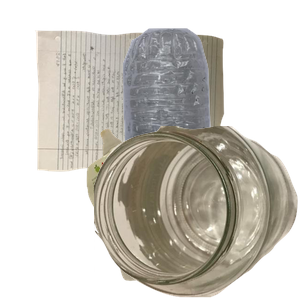glass: (94, 126, 300, 300)
paper: (32, 28, 249, 196)
plastic: (111, 26, 300, 206)
trash: (84, 126, 291, 300)
